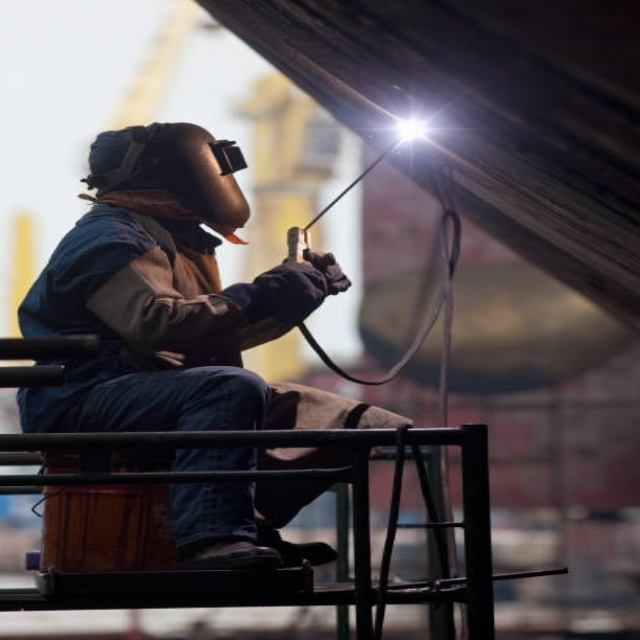Guantes: (216, 243, 350, 336)
